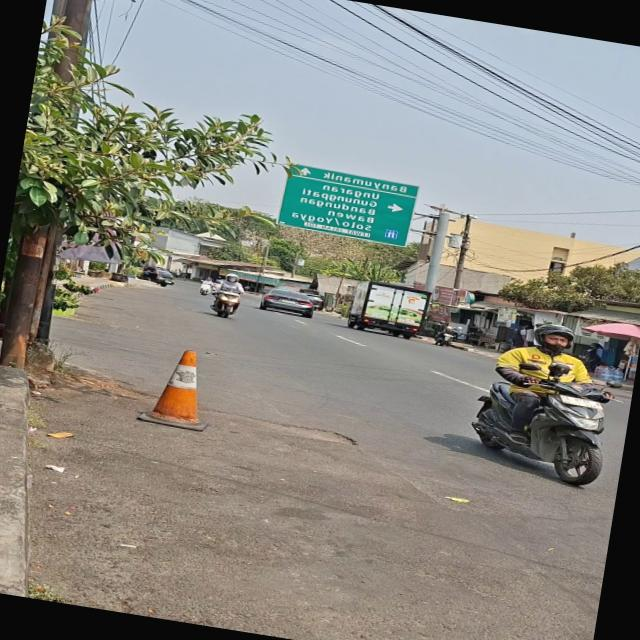WithHelmet: (483, 317, 625, 459), (209, 271, 251, 316), (200, 276, 218, 293)
